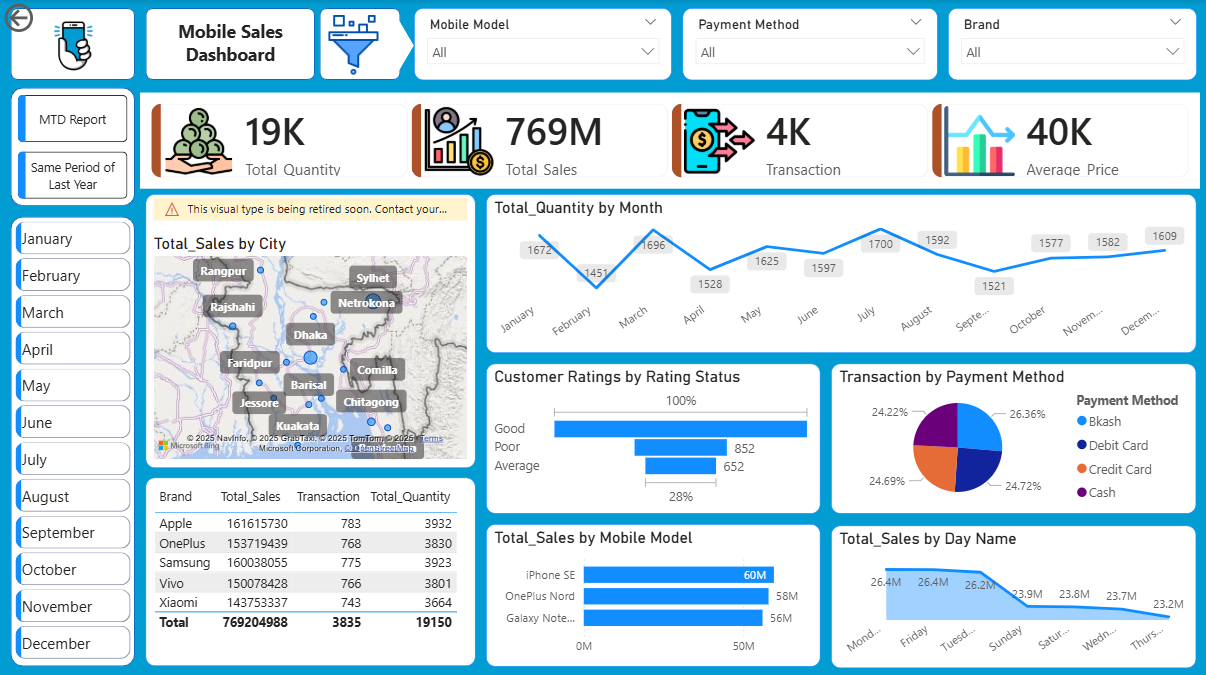

The page's visual inventory and layout, read from the dashboard file:
{"tool":"powerbi","page":{"name":"Dashboard","canvas":[1280,720],"ordinal":0},"visuals":[{"type":"shape","box":[11.1,9.5,132,76.3],"z":0},{"type":"image","box":[28.6,11.1,98.6,71.6],"z":1000},{"type":"shape","box":[11.1,93.8,132,125.7],"z":2000},{"type":"shape","box":[11.1,230.6,132,477.2],"z":3000},{"type":"advancedSlicerVisual","fields":{"Values":["Custom_Calendar.Date.Variation.Date Hierarchy.Month"]},"box":[11.1,230.6,132,477.2],"z":4000},{"type":"cardVisual","fields":{"Data":["Sales_Data.Total_Quantity","Sales_Data.Total_Sales","Sales_Data.Transaction","Sales_Data.Average_Price"]},"box":[143.2,93.8,1137.3,112.9],"z":5000},{"type":"slicer","fields":{"Values":["Sales_Data.Mobile Model"]},"box":[439,9.5,273.6,76.3],"z":6000},{"type":"slicer","fields":{"Values":["Sales_Data.Payment Method"]},"box":[723.7,9.5,270.4,76.3],"z":7000},{"type":"slicer","fields":{"Values":["Sales_Data.Brand"]},"box":[1005.3,9.5,264,76.3],"z":8000},{"type":"shape","box":[338.8,9.5,85.9,76.3],"z":9000},{"type":"image","box":[338.8,15.9,71.6,65.2],"z":10000},{"type":"shape","box":[407.2,22.3,31.8,54.1],"z":11000},{"type":"shape","box":[154.3,9.5,179.7,76.3],"z":12000},{"type":"textbox","box":[167,15.9,154.3,60.4],"z":13000},{"type":"map","fields":{"Category":["Sales_Data.City"],"Size":["Sales_Data.Total_Sales"]},"box":[154.7,206.2,350,290.6],"z":14000},{"type":"lineChart","fields":{"Category":["Custom_Calendar.Date.Variation.Date Hierarchy.Month"],"Y":["Sales_Data.Total_Quantity"]},"box":[515.6,206.2,753.1,168.8],"z":15000},{"type":"funnel","title":"Customer Ratings by Rating Status","fields":{"Category":["Sales_Data.Rating Status","Sales_Data.Customer Ratings"],"Y":["CountNonNull(Sales_Data.Customer Ratings)"]},"box":[515.6,385.9,354.7,159.4],"z":16000},{"type":"pieChart","fields":{"Y":["Sales_Data.Transaction"],"Category":["Sales_Data.Payment Method"]},"box":[881.2,385.9,387.5,159.4],"z":17000},{"type":"clusteredBarChart","fields":{"Y":["Sales_Data.Total_Sales"],"Category":["Sales_Data.Mobile Model"]},"box":[515.6,556.2,354.7,151.6],"z":18000},{"type":"areaChart","fields":{"Category":["Custom_Calendar.Day Name"],"Y":["Sales_Data.Total_Sales"]},"box":[881.2,557.8,387.5,151.6],"z":19000},{"type":"tableEx","fields":{"Values":["Sales_Data.Brand","Sales_Data.Total_Sales","Sales_Data.Transaction","Sales_Data.Total_Quantity"]},"box":[154.7,507.8,350,200],"z":20000},{"type":"actionButton","box":[0,0,100,40],"z":21000},{"type":"pageNavigator","box":[19.1,101.8,116.1,111.3],"z":22000}]}

Visuals, with their boxes in screenshot pixels (x1, y1, x2, y2), scaled from the page's 1280x720 canvas onto the 1206x675 screenshot:
shape: detection(10, 9, 135, 80)
image: detection(27, 10, 120, 78)
shape: detection(10, 88, 135, 206)
shape: detection(10, 216, 135, 664)
advancedSlicerVisual - Custom_Calendar.Date.Variation.Date Hierarchy.Month: detection(10, 216, 135, 664)
cardVisual - Sales_Data.Total_Quantity x Sales_Data.Total_Sales: detection(135, 88, 1205, 194)
slicer - Sales_Data.Mobile Model: detection(414, 9, 671, 80)
slicer - Sales_Data.Payment Method: detection(682, 9, 937, 80)
slicer - Sales_Data.Brand: detection(947, 9, 1196, 80)
shape: detection(319, 9, 400, 80)
image: detection(319, 15, 387, 76)
shape: detection(384, 21, 414, 72)
shape: detection(145, 9, 315, 80)
textbox: detection(157, 15, 303, 72)
map - Sales_Data.City x Sales_Data.Total_Sales: detection(146, 193, 476, 466)
lineChart - Custom_Calendar.Date.Variation.Date Hierarchy.Month x Sales_Data.Total_Quantity: detection(486, 193, 1195, 352)
"Customer Ratings by Rating Status" funnel: detection(486, 362, 820, 511)
pieChart - Sales_Data.Transaction x Sales_Data.Payment Method: detection(830, 362, 1195, 511)
clusteredBarChart - Sales_Data.Total_Sales x Sales_Data.Mobile Model: detection(486, 521, 820, 664)
areaChart - Custom_Calendar.Day Name x Sales_Data.Total_Sales: detection(830, 523, 1195, 665)
tableEx - Sales_Data.Brand x Sales_Data.Total_Sales: detection(146, 476, 476, 664)
actionButton: detection(0, 0, 94, 38)
pageNavigator: detection(18, 95, 127, 200)
